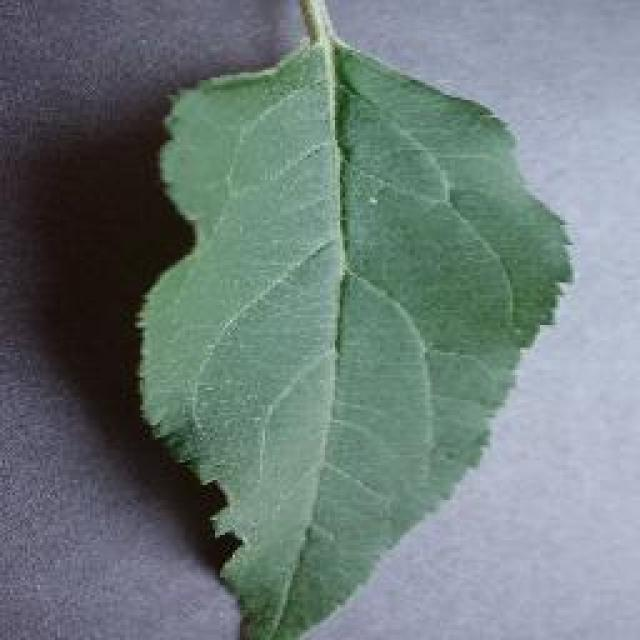apple healthy: (127, 0, 575, 638)
